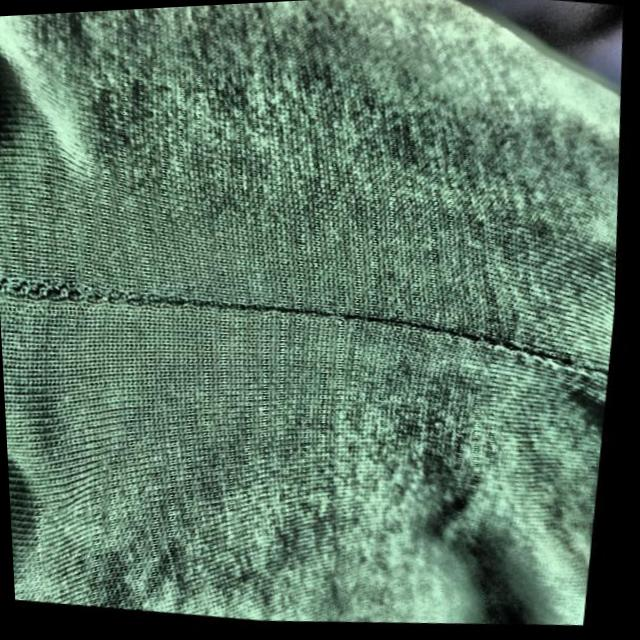seam: (0, 244, 611, 407)
